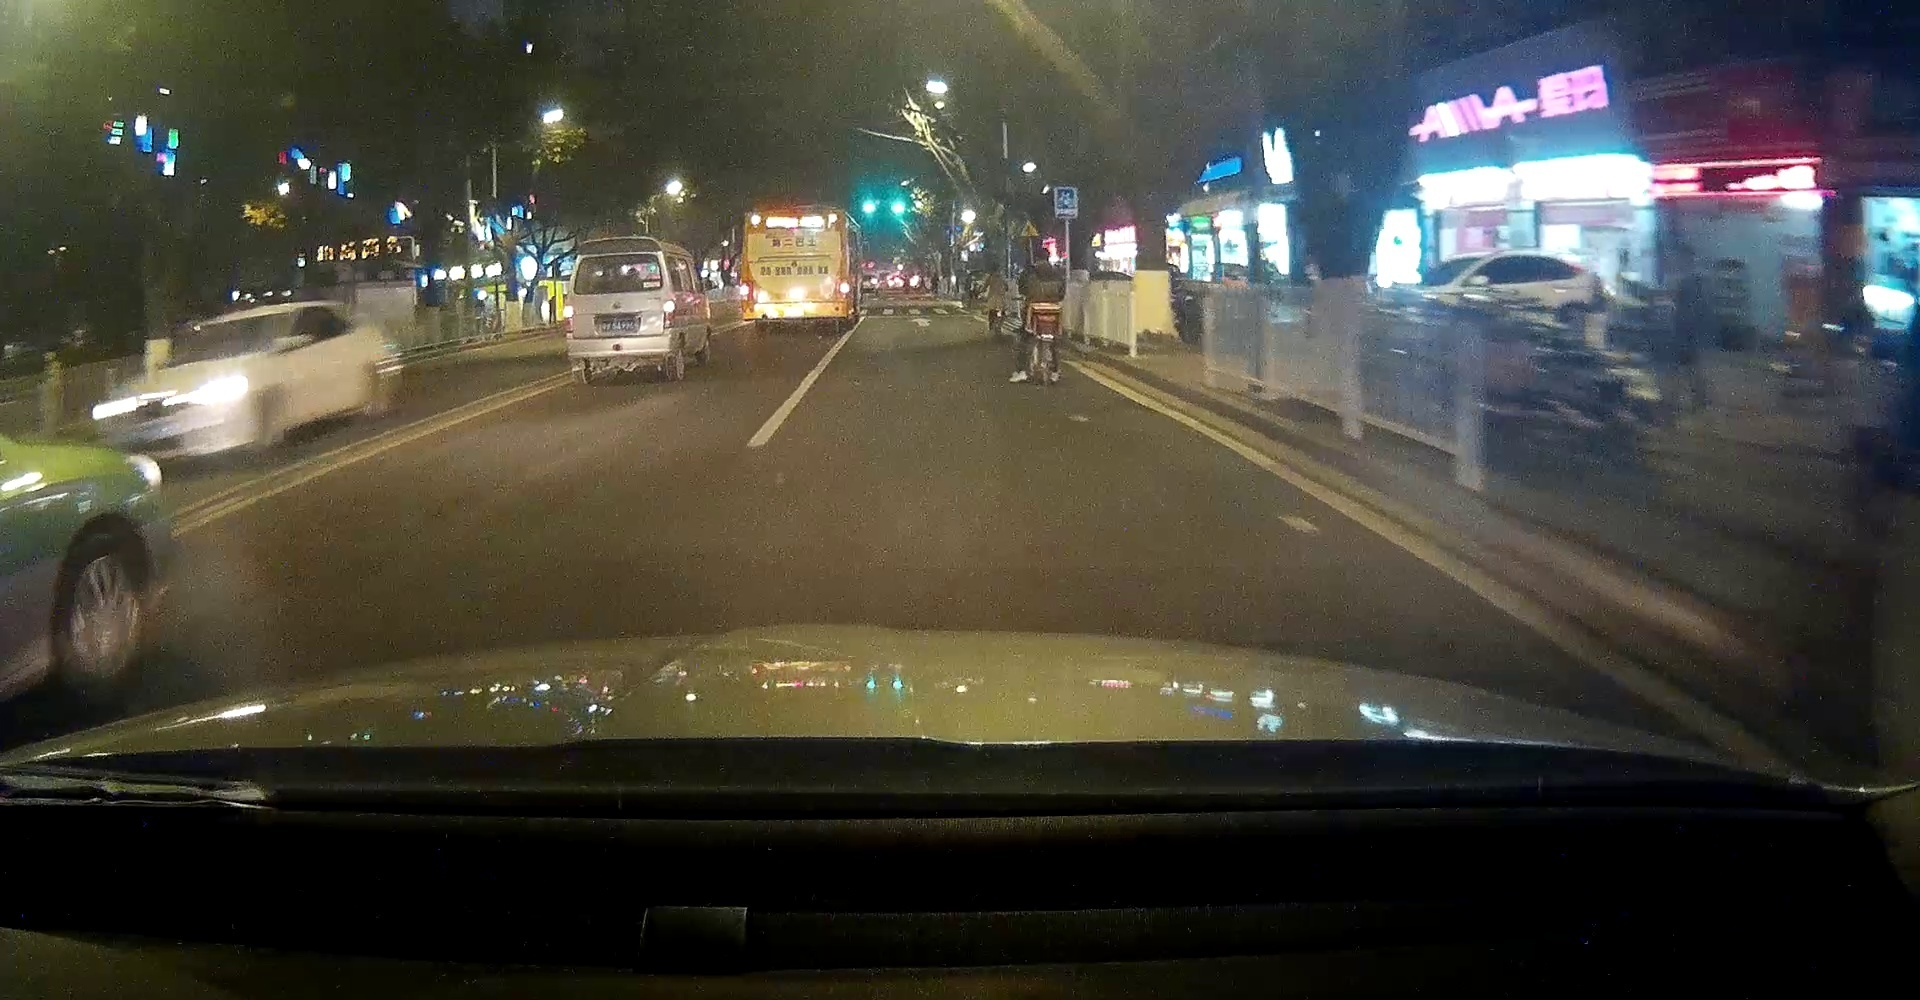L_light: (563, 305, 574, 332), (740, 280, 750, 301)
R_light: (664, 298, 676, 327), (839, 278, 850, 298)
T_light: (607, 255, 629, 260), (786, 211, 803, 217)
night-no: (563, 237, 676, 383), (740, 204, 850, 332)
